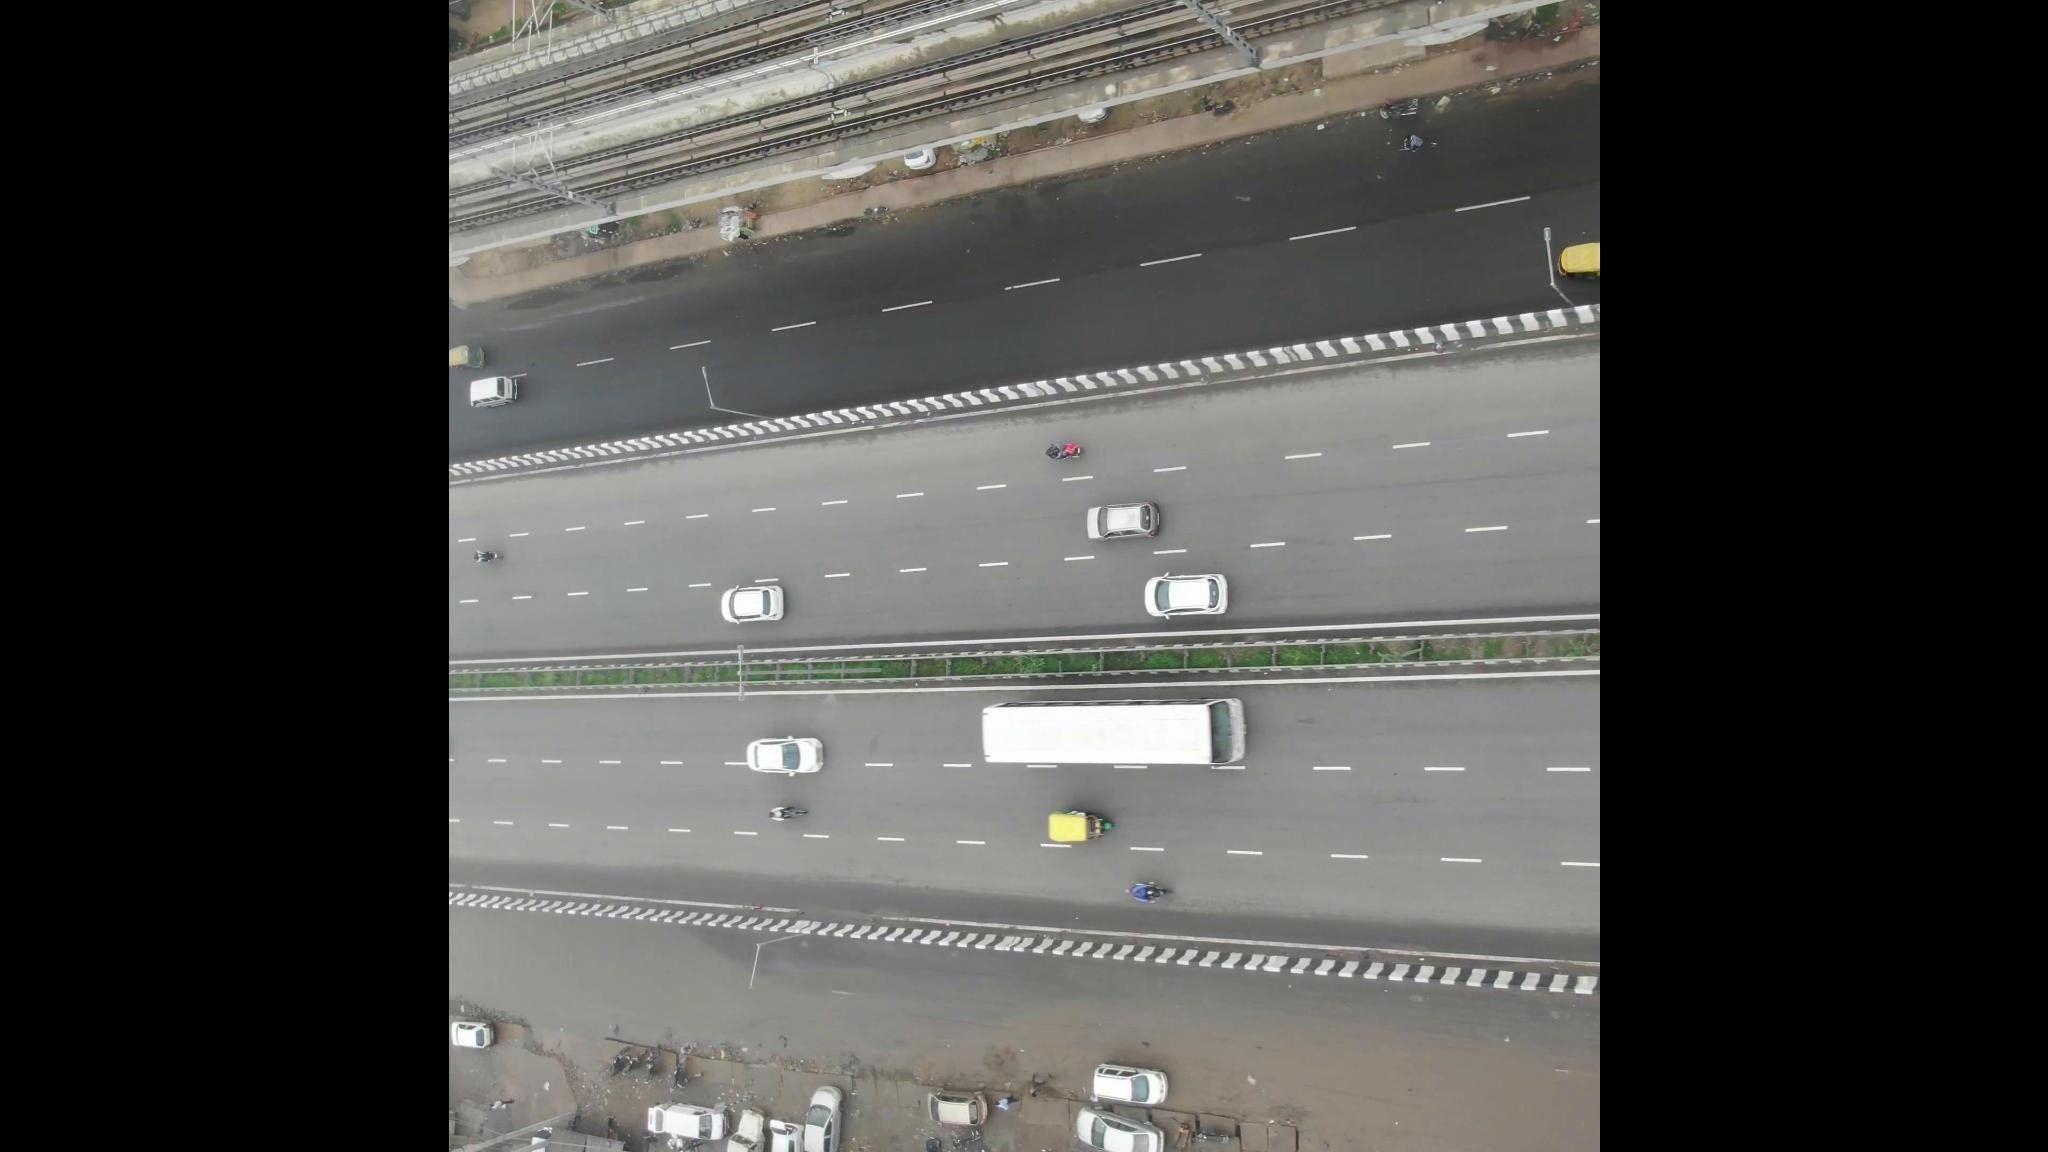Waterlogging: (504, 245, 713, 324), (816, 212, 869, 243)
